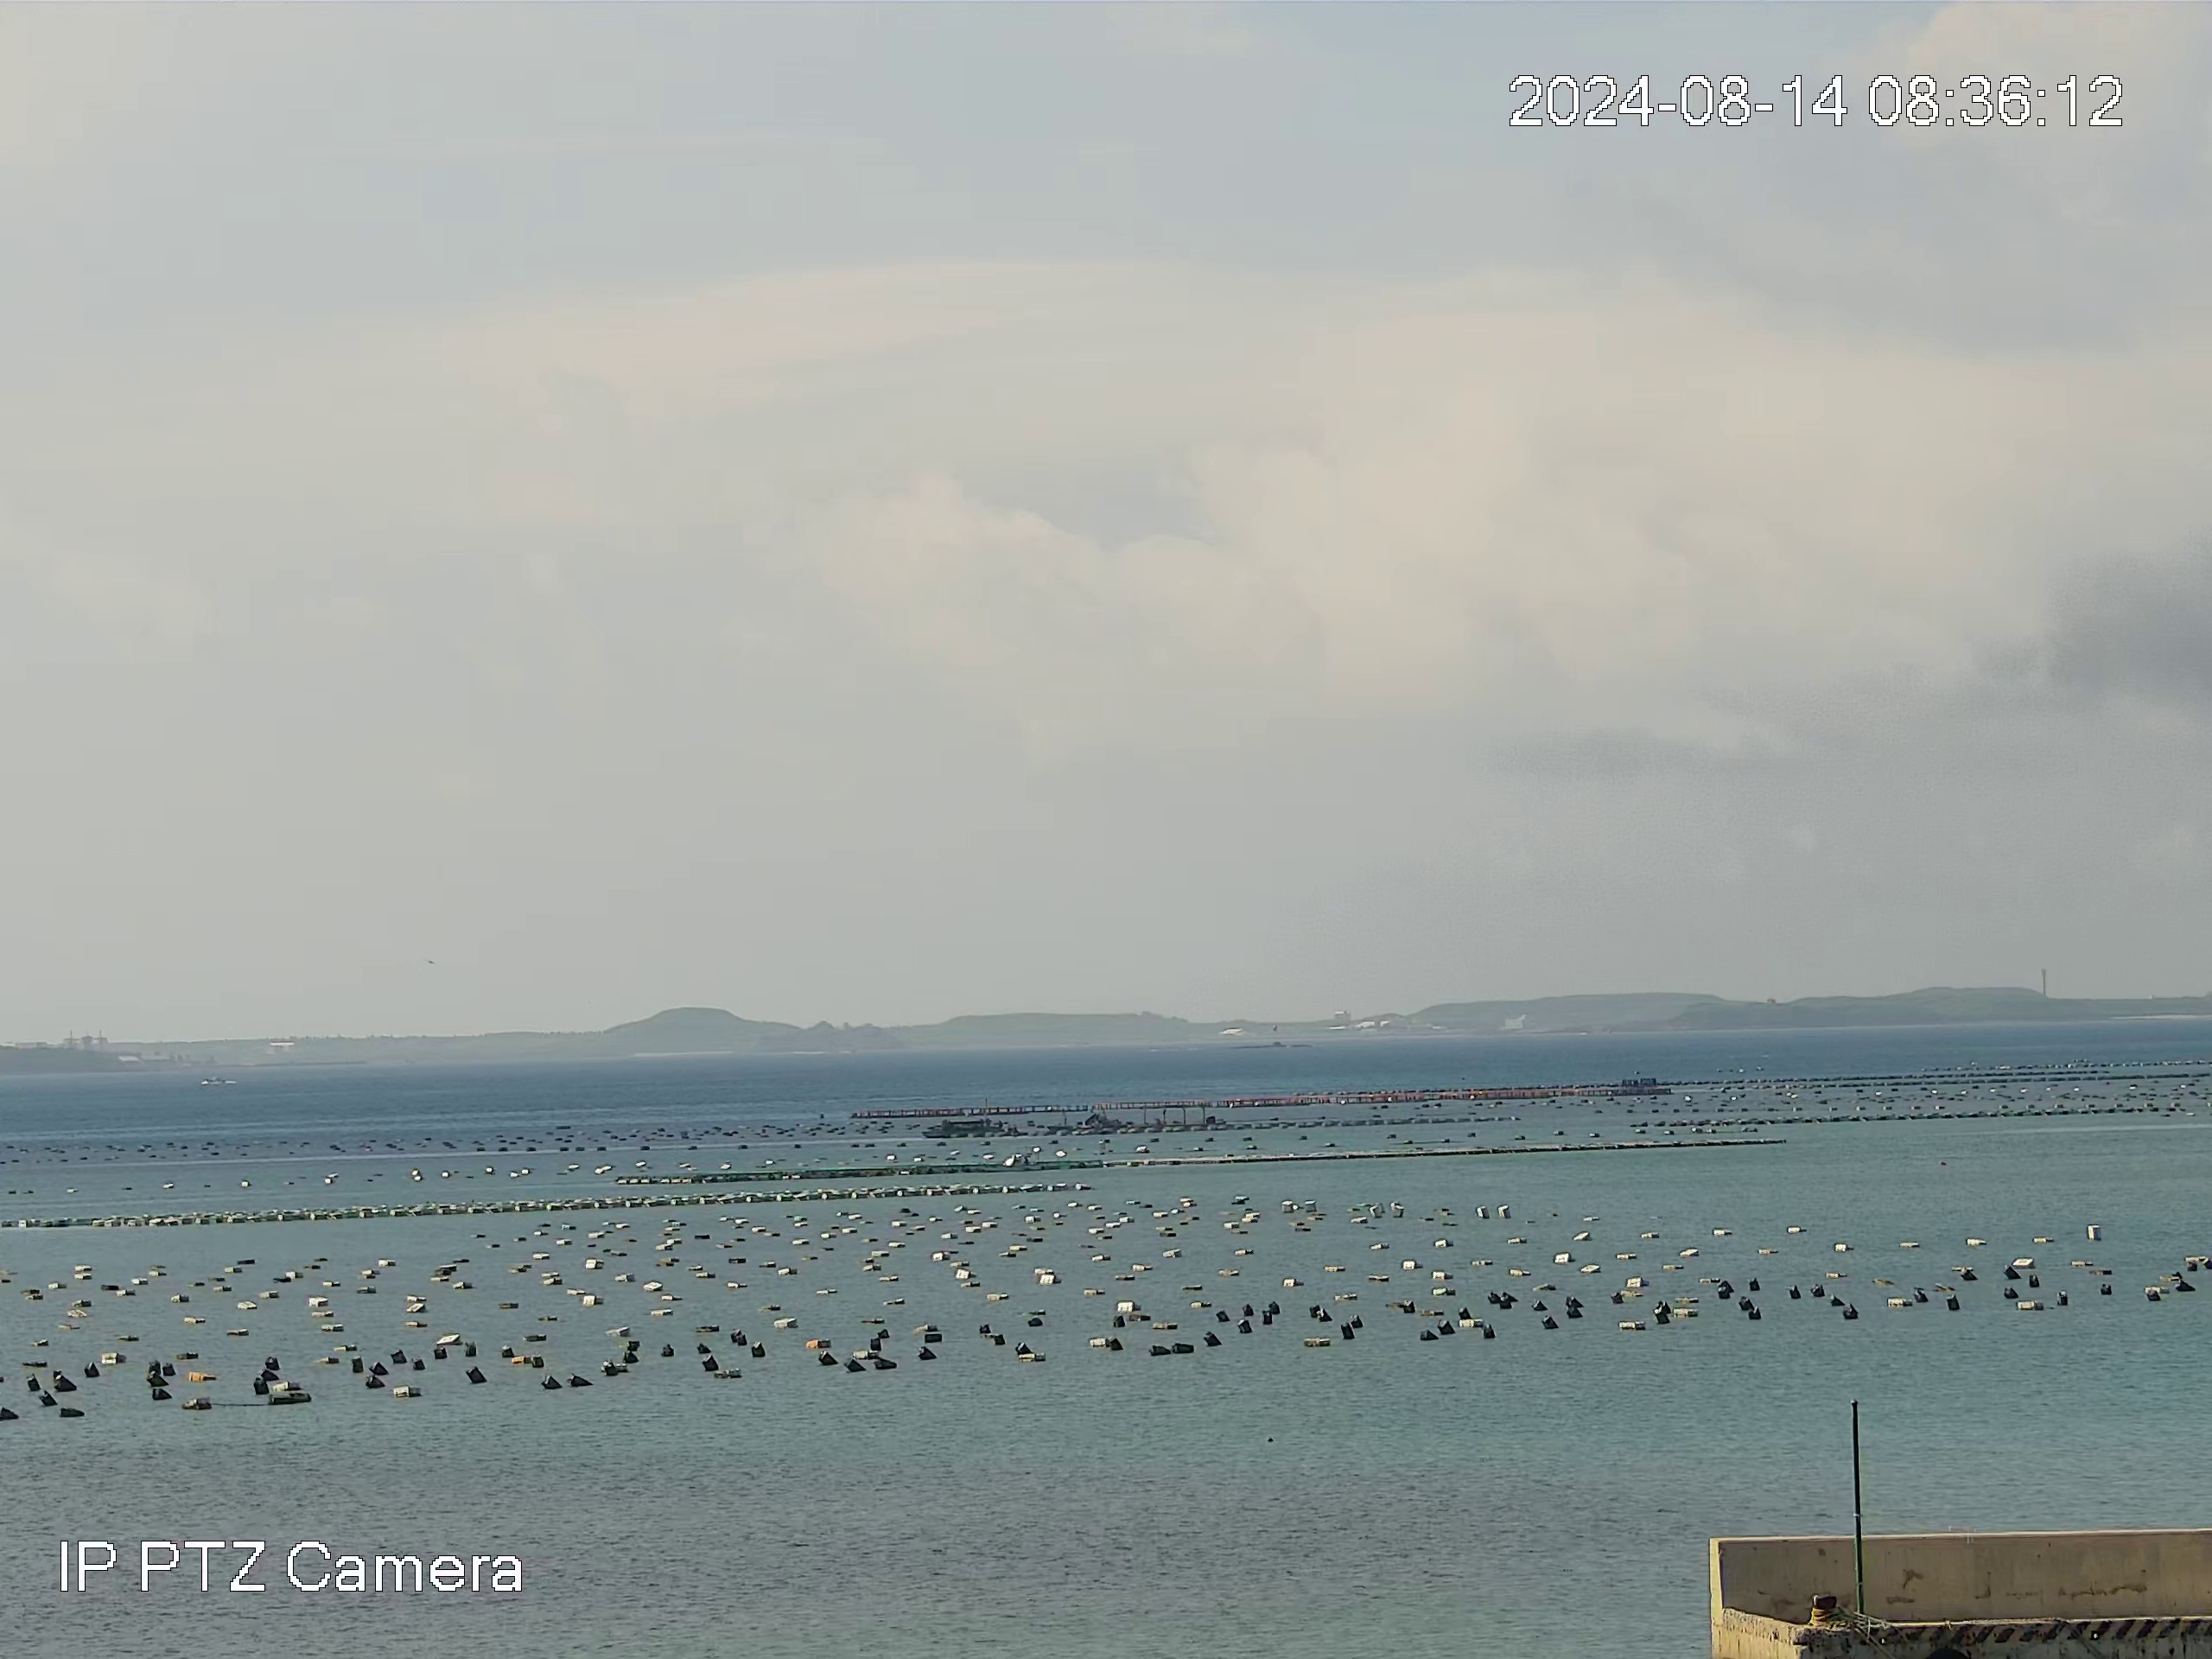boat: (918, 1119, 995, 1138)
